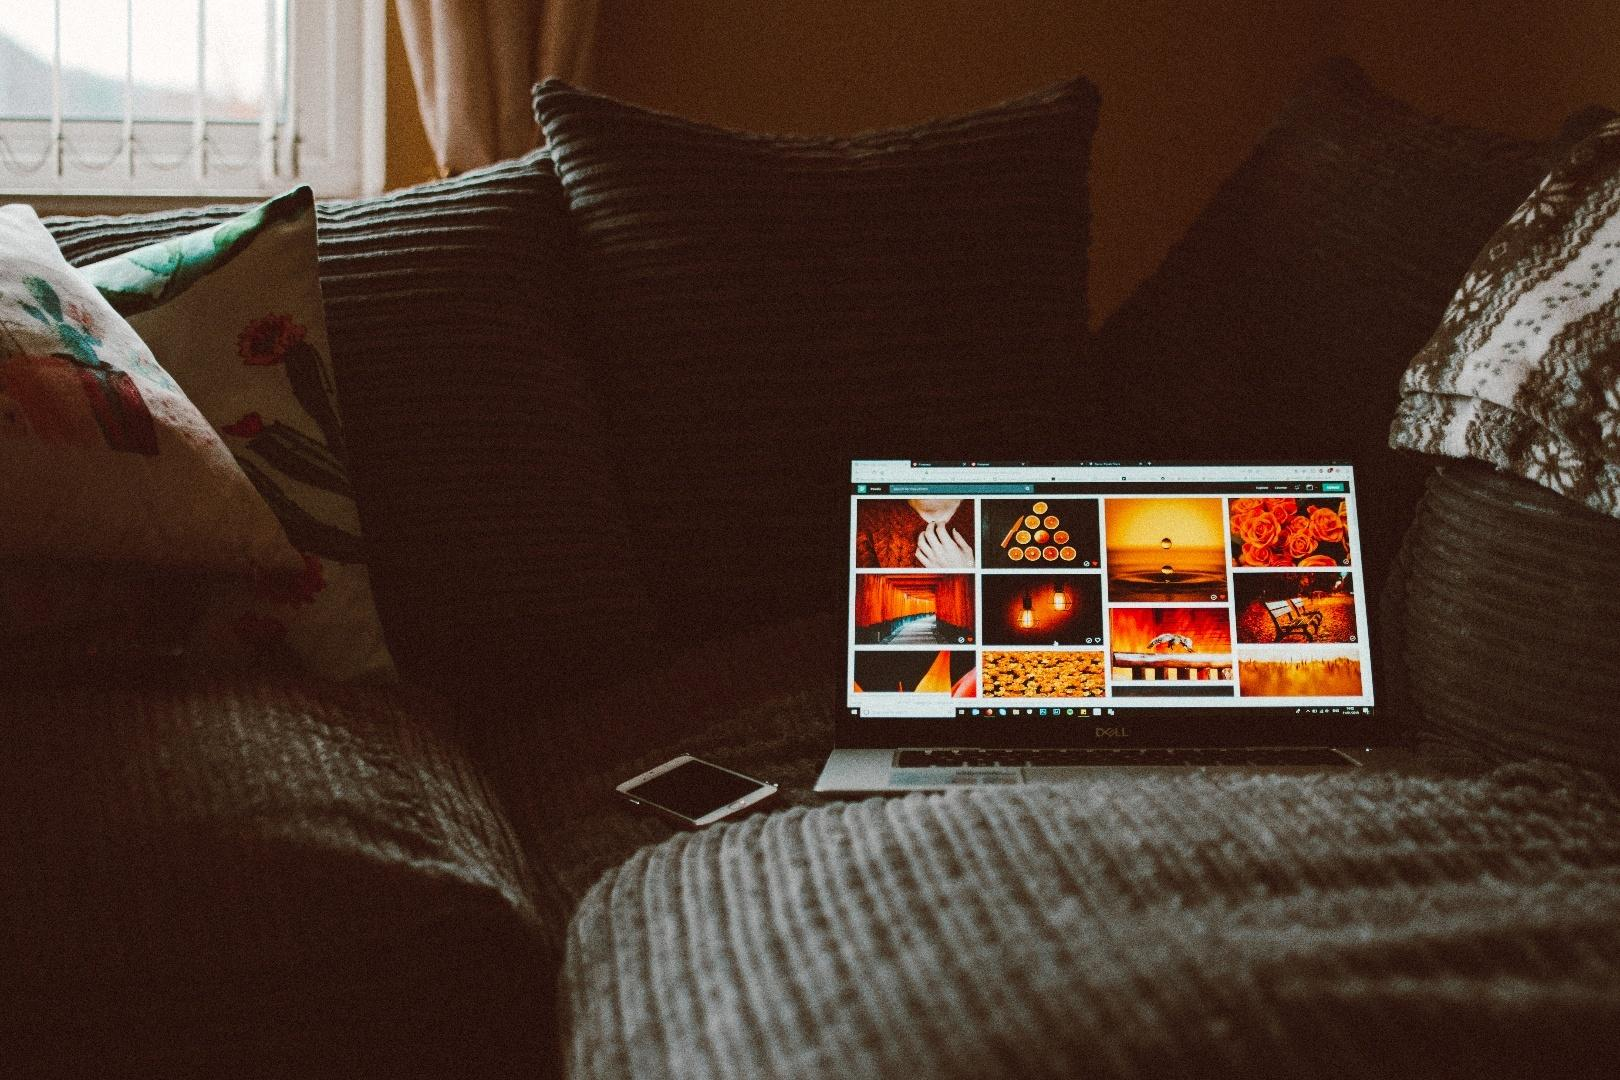glass: (134, 1044, 646, 1080)
